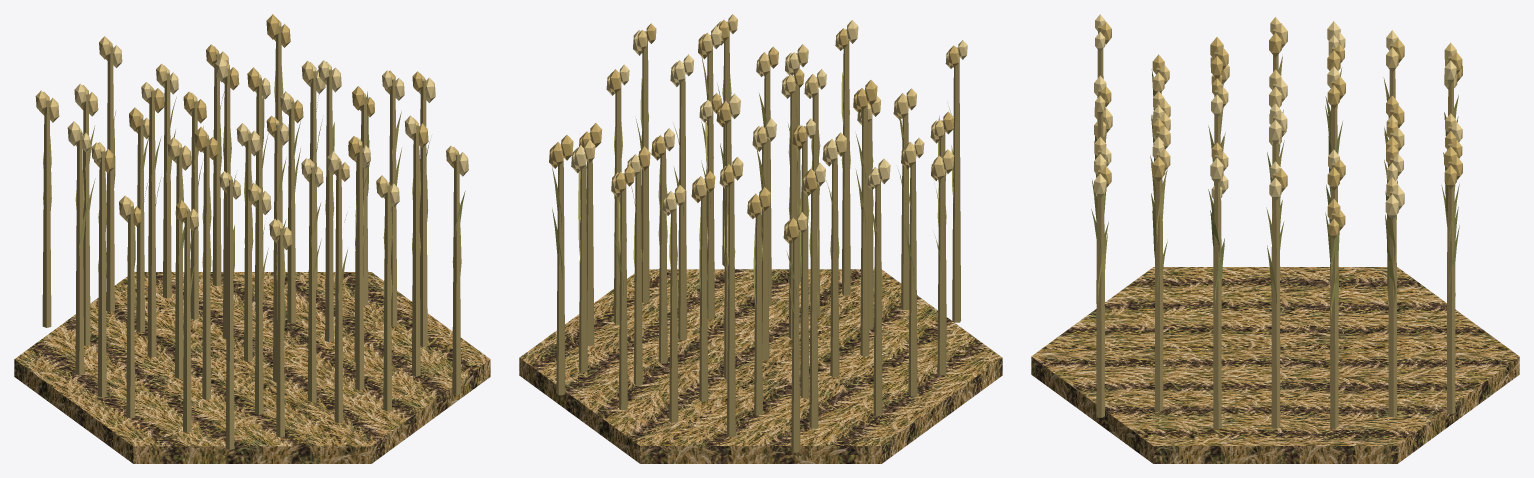
File: wheat-tile-v03.glb
The picture shows the model from 3 angles, left to right: view 1: azimuth 30°, elevation 25°; view 2: azimuth 150°, elevation 25°; view 3: azimuth 270°, elevation 25°; orthographic projection. The views are drawn at different scales.
Parts seen in each view (by area): view 1: wheat-tile-hex-v01; view 2: wheat-tile-hex-v01; view 3: wheat-tile-hex-v01.
Part boxes in pixels (x1,y1,x2,y2): wheat-tile-hex-v01: (14,14,490,463); wheat-tile-hex-v01: (519,14,1002,463); wheat-tile-hex-v01: (1031,14,1519,463).
Bounding box in the file's own units: 1.59 × 1.28 × 1.84.
Materials: 8 (1 with a texture image).
